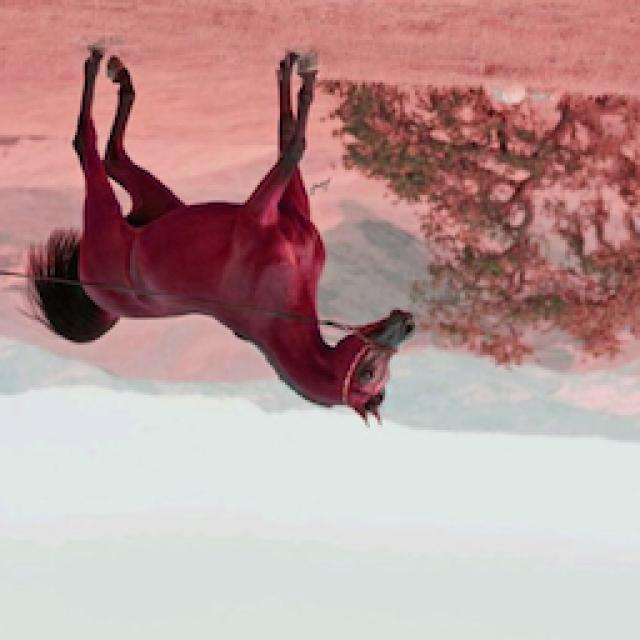Horse: (10, 42, 422, 432)
